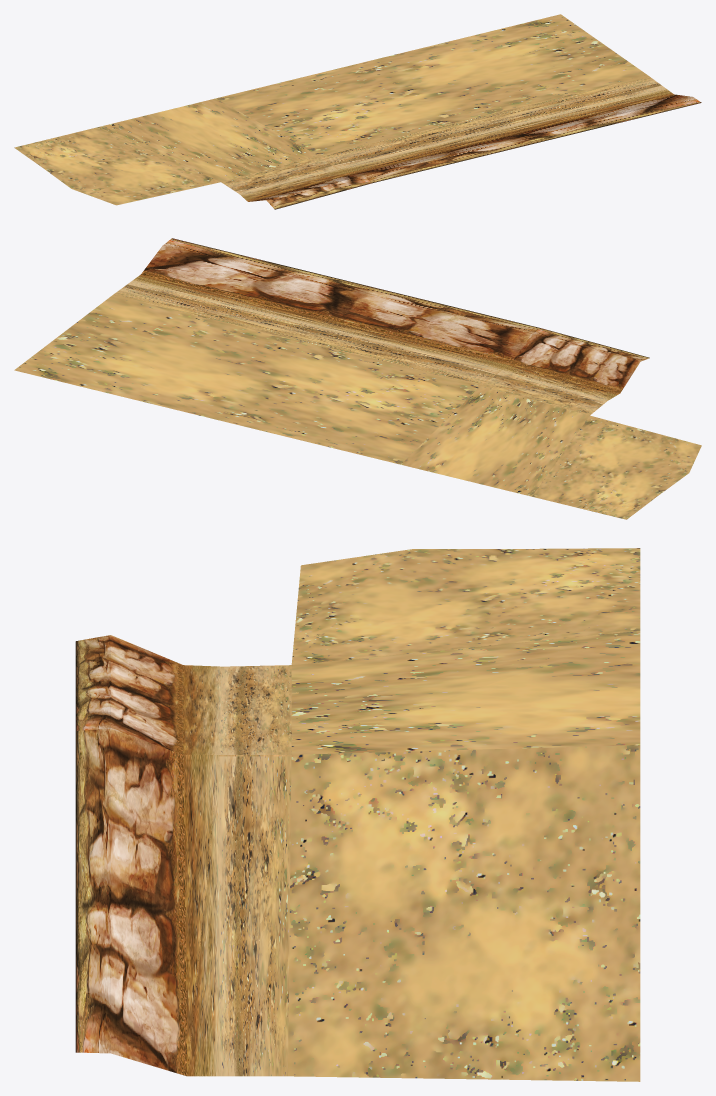
File: us_cany_far_end.fbx
The picture shows the model from 3 angles, top to bottom: view 1: azimuth 30°, elevation 25°; view 2: azimuth 150°, elevation 25°; view 3: azimuth 270°, elevation 25°; orthographic projection. The views are drawn at different scales.
Parts seen in each view (by area): view 1: us_cany_far_end; view 2: us_cany_far_end; view 3: us_cany_far_end.
Part boxes in pixels (bbox=[...]): us_cany_far_end: bbox=[14, 14, 701, 209]; us_cany_far_end: bbox=[14, 238, 701, 519]; us_cany_far_end: bbox=[75, 548, 640, 1081].
Size of the model in its own units: 22367 by 616 by 10000.
